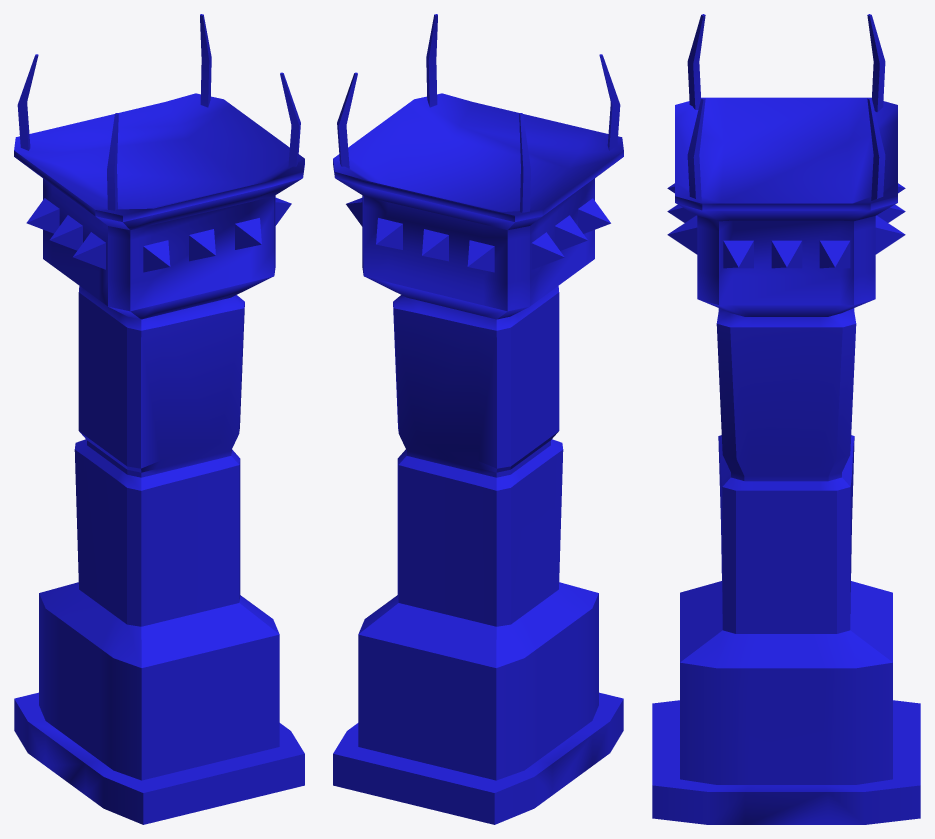
File: S_ColonneDeFeu.fbx
3 renders of one model, left to right at view 1: azimuth 30°, elevation 25°; view 2: azimuth 150°, elevation 25°; view 3: azimuth 270°, elevation 25°, orthographic. The views are drawn at different scales.
Visible parts, largest first — view 1: S_ColonneDeFeu_low; view 2: S_ColonneDeFeu_low; view 3: S_ColonneDeFeu_low.
Part boxes in pixels (x1=…): S_ColonneDeFeu_low: x1=14, y1=14, x2=304, y2=824; S_ColonneDeFeu_low: x1=333, y1=14, x2=623, y2=824; S_ColonneDeFeu_low: x1=652, y1=14, x2=920, y2=824.
Size of the model in its own units: 2.53 by 7.66 by 2.58.
